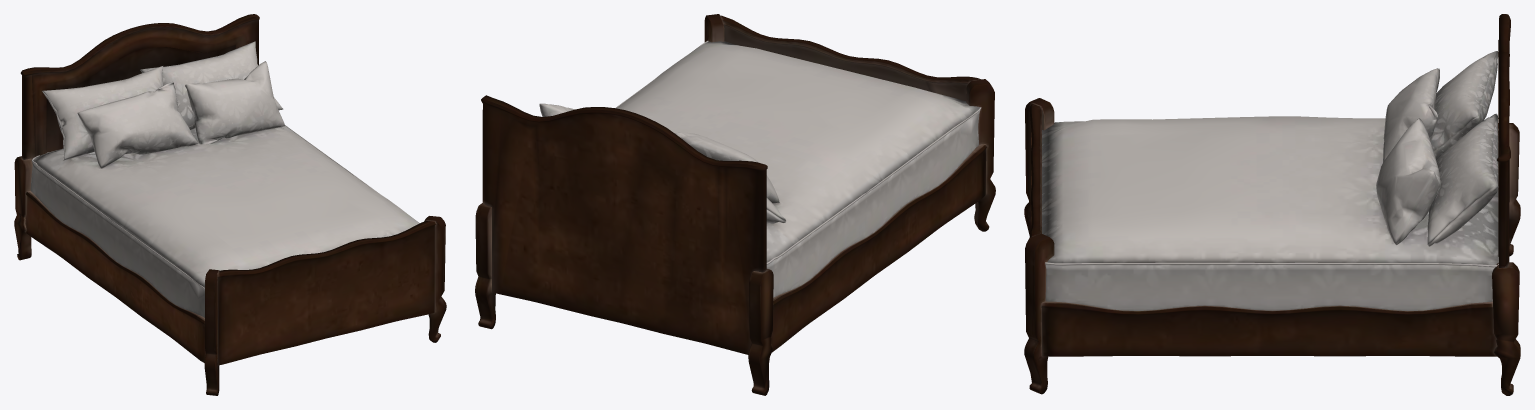
File: double_bed.glb
3 renders of one model, left to right at view 1: azimuth 30°, elevation 25°; view 2: azimuth 150°, elevation 25°; view 3: azimuth 270°, elevation 25°, orthographic. The views are drawn at different scales.
Visible parts, largest first — view 1: victorian_bed_wood_bed_wood_material_0, victorian_bed_mattres_bed_mattres_material_0, pollows_bed_pillow_material_0; view 2: victorian_bed_wood_bed_wood_material_0, victorian_bed_mattres_bed_mattres_material_0, pollows_bed_pillow_material_0; view 3: victorian_bed_mattres_bed_mattres_material_0, victorian_bed_wood_bed_wood_material_0, pollows_bed_pillow_material_0.
Part boxes in pixels (x1,y1,x2,y2): victorian_bed_wood_bed_wood_material_0: (14,14,446,395); victorian_bed_mattres_bed_mattres_material_0: (30,125,419,317); pollows_bed_pillow_material_0: (42,41,284,168); victorian_bed_wood_bed_wood_material_0: (475,14,995,395); victorian_bed_mattres_bed_mattres_material_0: (615,40,981,297); pollows_bed_pillow_material_0: (539,103,785,223); victorian_bed_mattres_bed_mattres_material_0: (1042,116,1498,311); victorian_bed_wood_bed_wood_material_0: (1024,14,1520,395); pollows_bed_pillow_material_0: (1376,51,1498,246).
Size of the model in its own units: 2.13 by 1.73 by 3.01.
Materials: 3 (3 with a texture image).
